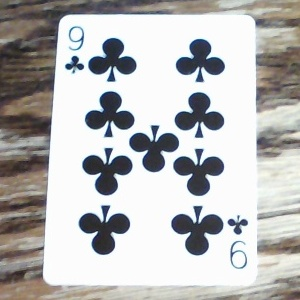card: (38, 13, 261, 287)
